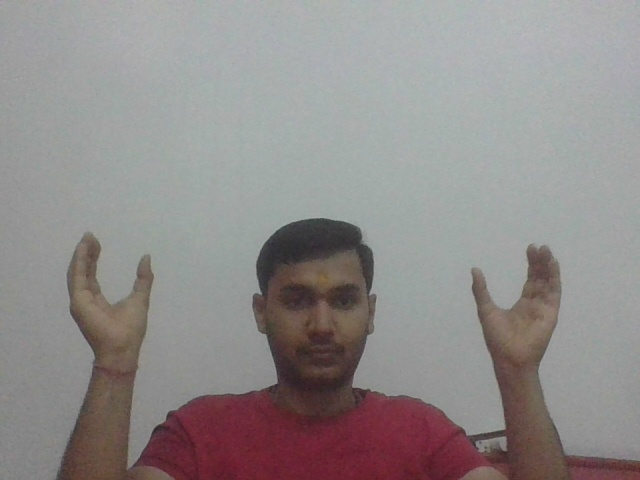U: (465, 237, 569, 368), (66, 227, 159, 364)
